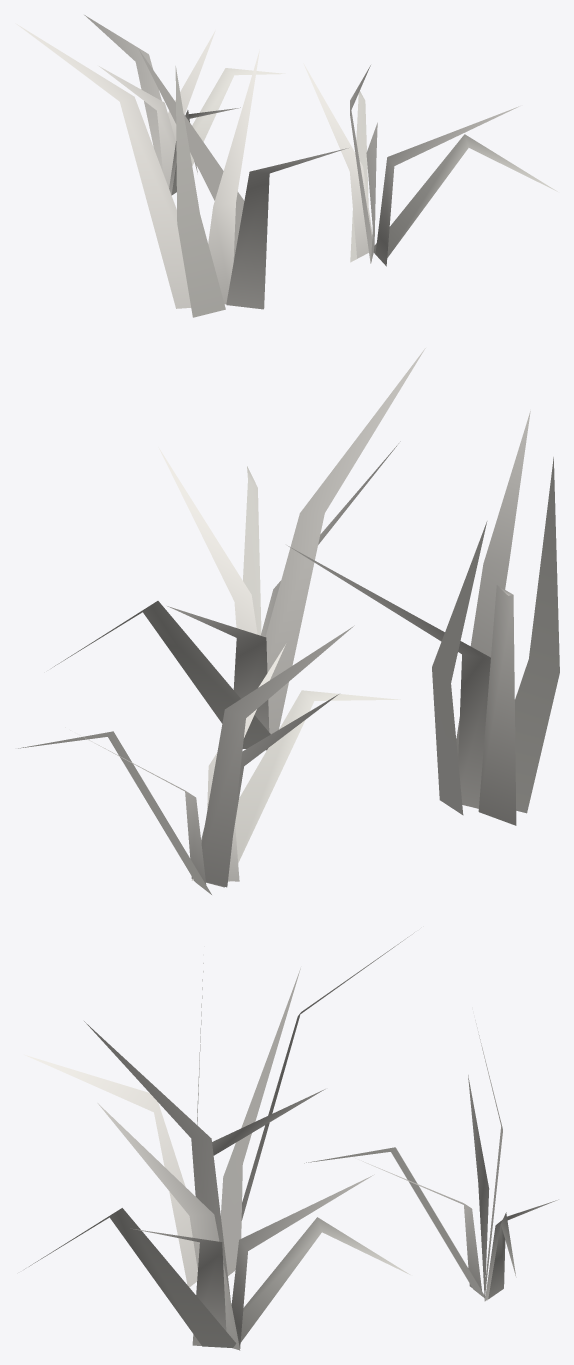
Rendered from Model_Frost_Plants3.fbx.
3 renders of one model, top to bottom at view 1: azimuth 30°, elevation 25°; view 2: azimuth 150°, elevation 25°; view 3: azimuth 270°, elevation 25°, orthographic. The views are drawn at different scales.
Visible parts, largest first — view 1: cao3; view 2: cao3; view 3: cao3.
Boxes of the visible parts, <box> form: cao3: <box>15,15,557,317</box>; cao3: <box>18,348,559,894</box>; cao3: <box>24,932,558,1350</box>.
Bounding box in the file's own units: 77.98 × 51.88 × 84.8.
1 material, 1 textured.
